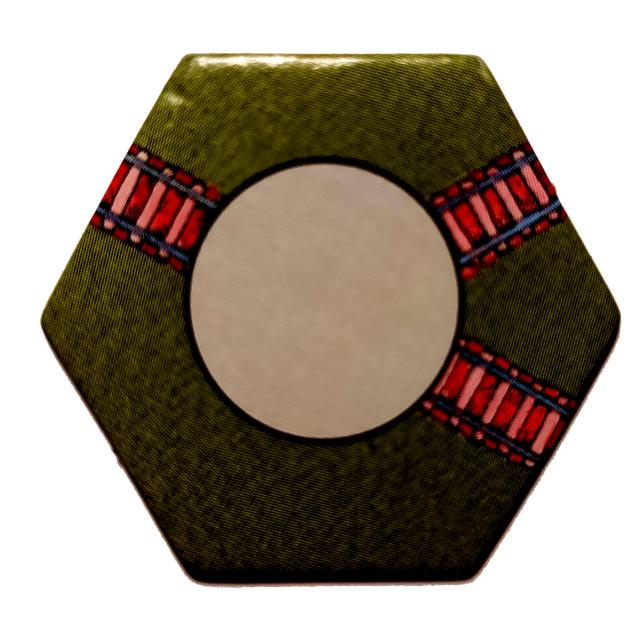14_0: (40, 56, 624, 585)
